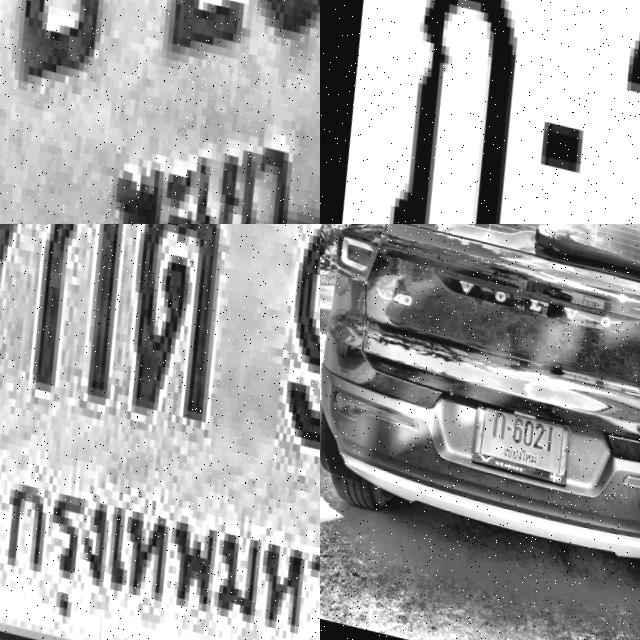license-plate: (0, 224, 320, 640), (0, 0, 320, 224), (320, 0, 640, 224), (457, 389, 570, 485)
